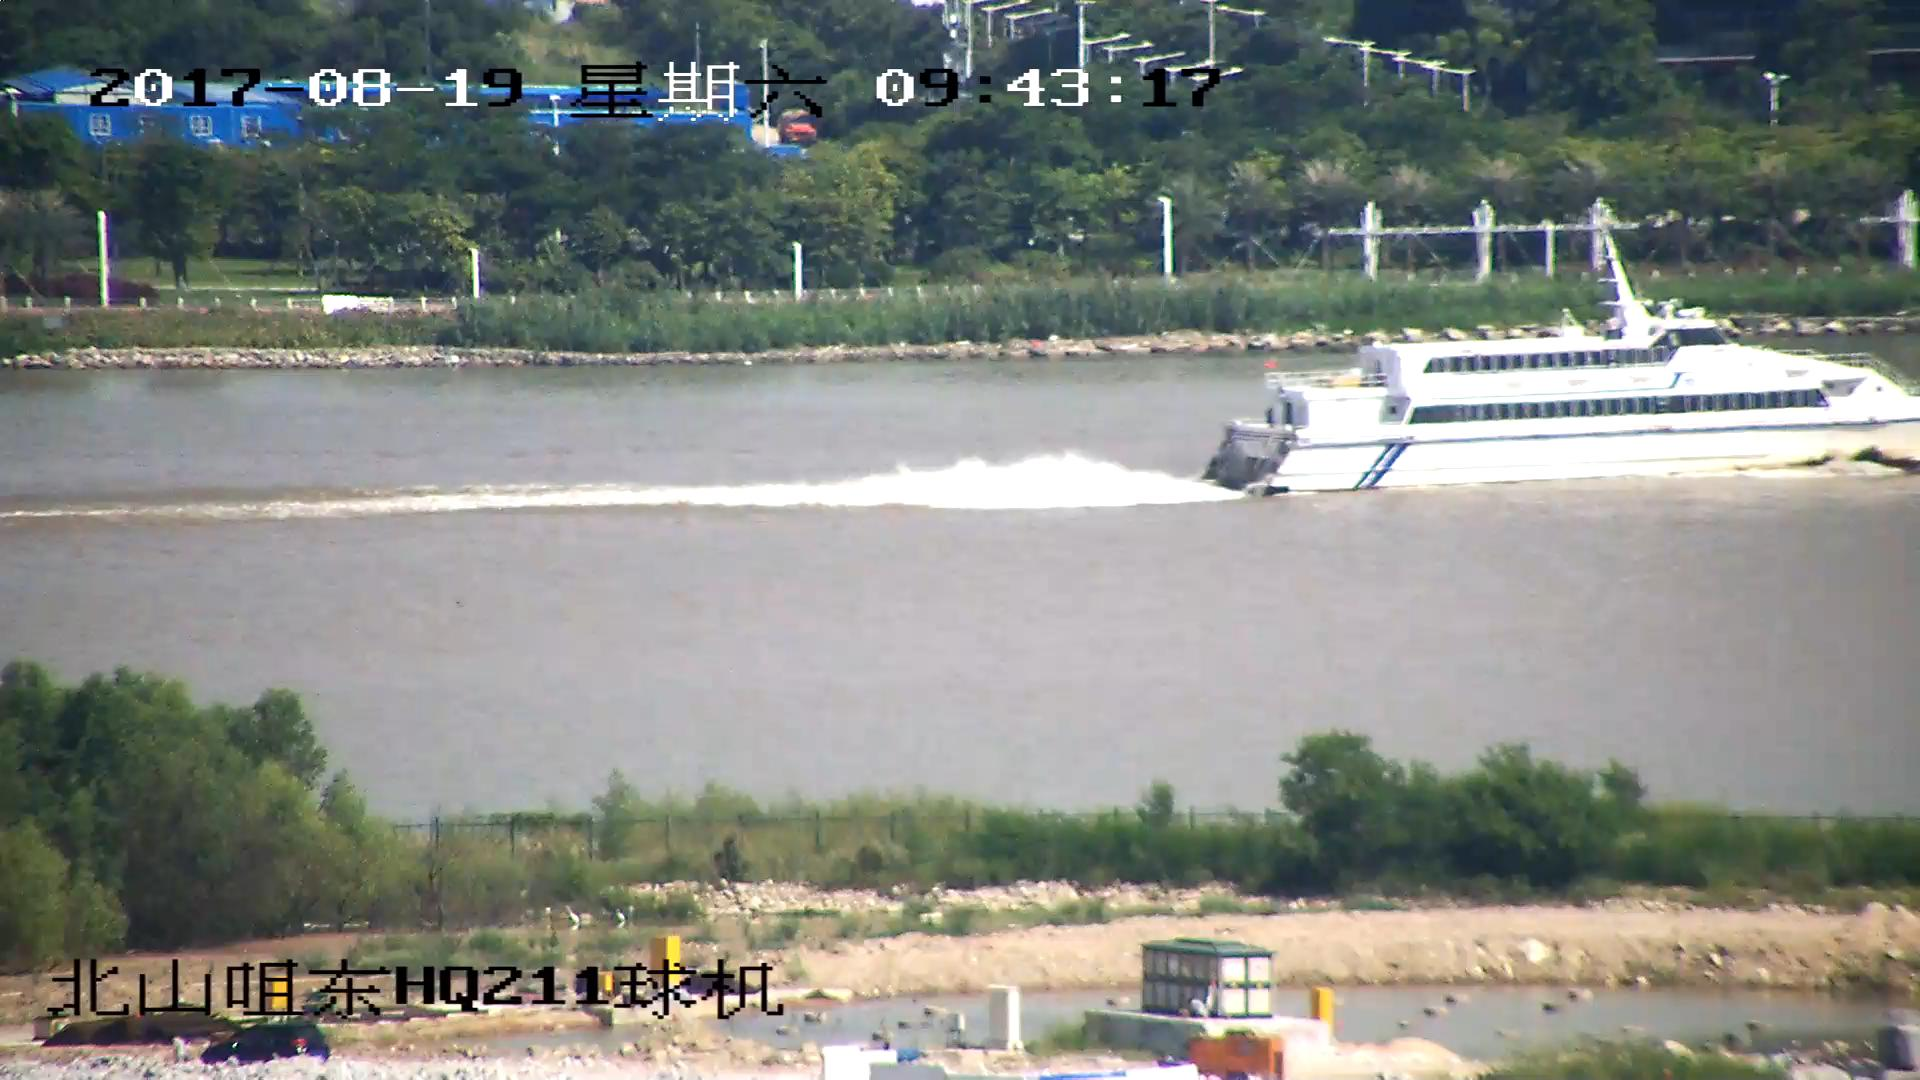passenger ship: (1203, 240, 1920, 493)
